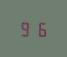nine: (19, 19, 32, 36)
six: (33, 19, 46, 37)
